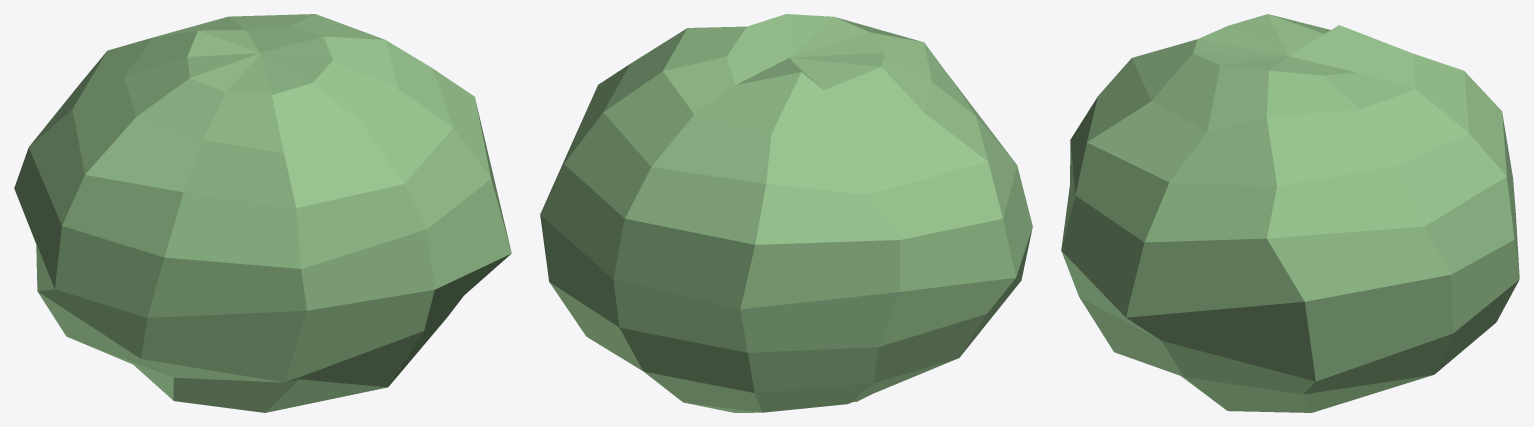
The model's file is RoundBush.fbx.
The picture shows the model from 3 angles, left to right: view 1: azimuth 30°, elevation 25°; view 2: azimuth 150°, elevation 25°; view 3: azimuth 270°, elevation 25°; orthographic projection.
Parts seen in each view (by area): view 1: pSphere4; view 2: pSphere4; view 3: pSphere4.
Part boxes in pixels (left/top/right/bottom): pSphere4: left=14, top=14, right=511, bottom=412; pSphere4: left=540, top=14, right=1032, bottom=412; pSphere4: left=1061, top=14, right=1519, bottom=412.
Bounding box in the file's own units: 2.9 × 2.16 × 2.7.
